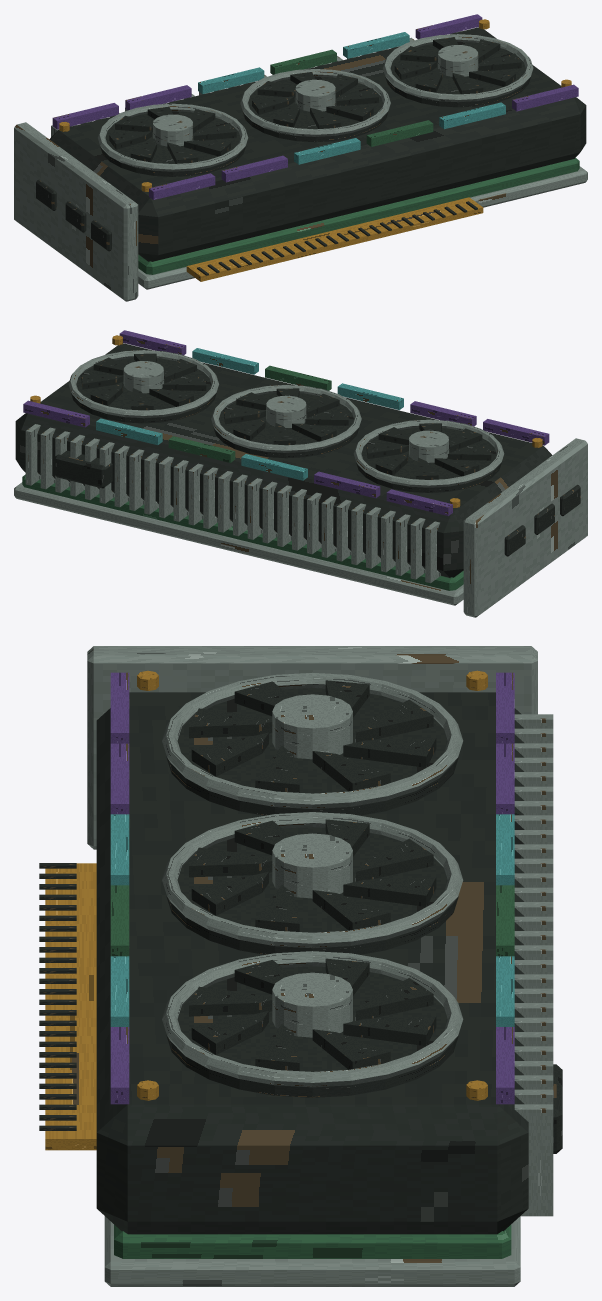
File: graphics_card.glb
3 renders of one model, top to bottom at view 1: azimuth 30°, elevation 25°; view 2: azimuth 150°, elevation 25°; view 3: azimuth 270°, elevation 25°, orthographic. The views are drawn at different scales.
Parts seen in each view (by area): view 1: graphics_card; view 2: graphics_card; view 3: graphics_card.
Boxes of the visible parts, x1,y1,x2,y2 form: graphics_card: (14, 14, 587, 301); graphics_card: (14, 330, 587, 617); graphics_card: (39, 646, 562, 1286).
Size of the model in its own units: 0.354 by 0.081 by 0.1685.
Materials: 6 (6 with a texture image).
